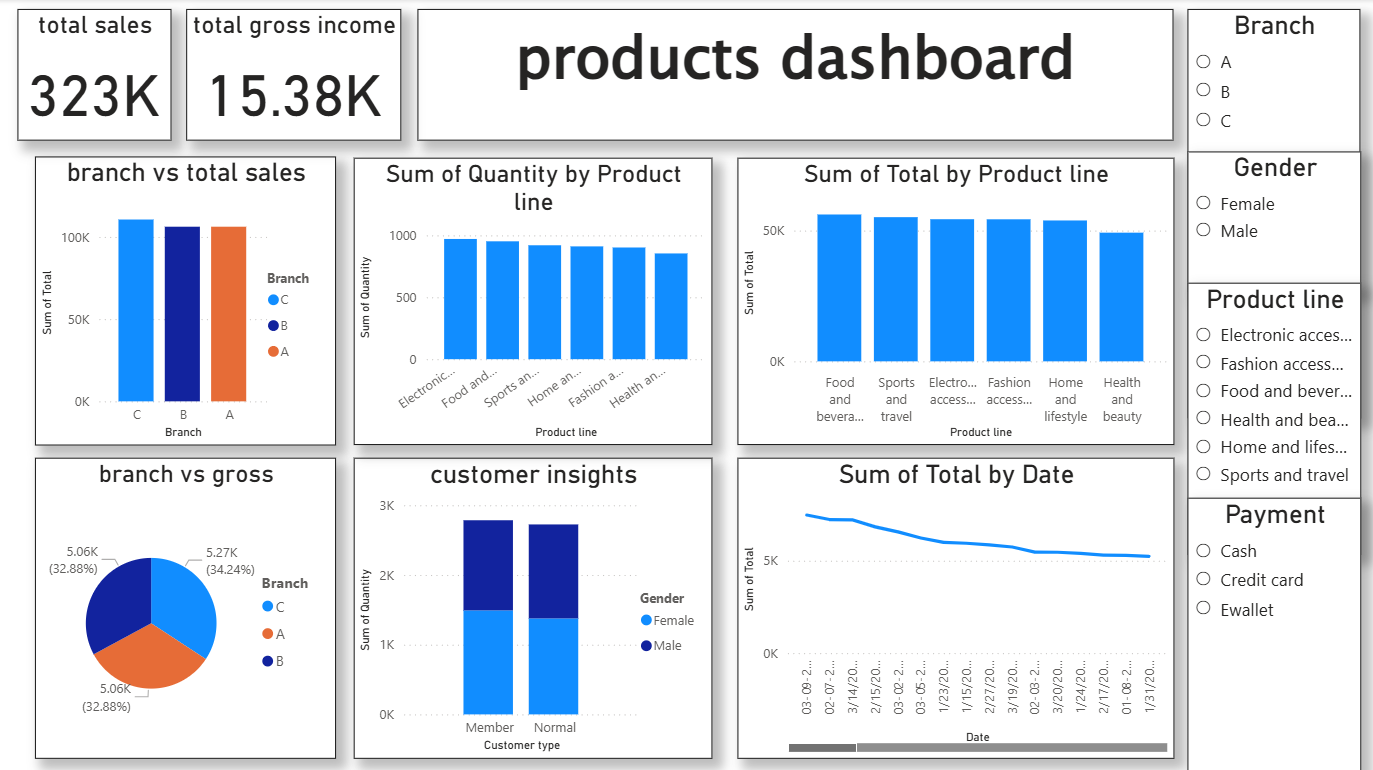

Layout of this report page (visuals, bound fields, positions):
{"tool":"powerbi","page":{"name":"Page 1","canvas":[1280,720],"ordinal":0},"visuals":[{"type":"columnChart","title":"branch vs total sales","fields":{"Category":["D6.Branch"],"Y":["Sum(D6.Total)"],"Series":["D6.Branch"]},"box":[32.9,146.8,279.9,269],"z":0},{"type":"pieChart","title":"branch vs gross","fields":{"Category":["D6.Branch"],"Y":["Sum(D6.gross income)"]},"box":[32.9,426.8,279.9,279.9],"z":1},{"type":"columnChart","title":"customer insights","fields":{"Category":["D6.Customer type"],"Series":["D6.Gender"],"Y":["Sum(D6.Quantity)"]},"box":[329.3,426.8,333.4,279.9],"z":2},{"type":"textbox","box":[388.3,9.6,703.9,109.8],"z":3},{"type":"card","title":"total sales","fields":{"Values":["Sum(D6.Total)"]},"box":[16.5,9.6,142.7,109.8],"z":4},{"type":"card","title":"total gross income","fields":{"Values":["Sum(D6.gross income)"]},"box":[172.9,9.6,200.3,109.8],"z":5},{"type":"clusteredColumnChart","fields":{"Category":["D6.Product line"],"Y":["Sum(D6.Total)"]},"box":[686.1,148.2,406.2,267.6],"z":6},{"type":"clusteredColumnChart","fields":{"Category":["D6.Product line"],"Y":["Sum(D6.Quantity)"]},"box":[329.3,148.2,333.4,267.6],"z":7},{"type":"lineChart","fields":{"Category":["D6.Date"],"Y":["Sum(D6.Total)"]},"box":[686.1,426.8,406.2,279.9],"z":8},{"type":"listSlicer","fields":{"Values":["D6.Branch"]},"box":[1104.6,9.6,160.5,263.5],"z":9},{"type":"listSlicer","fields":{"Values":["D6.Gender"]},"box":[1104.6,141.3,161.9,248.4],"z":10},{"type":"listSlicer","fields":{"Values":["D6.Product line"]},"box":[1104.6,263.5,161.9,252.5],"z":11},{"type":"listSlicer","fields":{"Values":["D6.Payment"]},"box":[1104.6,463.8,161.9,256.6],"z":12}]}

Visuals, with their boxes in screenshot pixels (x1, y1, x2, y2), scaled from the page's 1280x720 canvas onto the 1373x770 screenshot:
"branch vs total sales" columnChart: select_region(35, 157, 336, 445)
"branch vs gross" pieChart: select_region(35, 456, 336, 756)
"customer insights" columnChart: select_region(353, 456, 711, 756)
textbox: select_region(417, 10, 1172, 128)
"total sales" card: select_region(18, 10, 171, 128)
"total gross income" card: select_region(185, 10, 400, 128)
clusteredColumnChart - D6.Product line x Sum(D6.Total): select_region(736, 158, 1172, 445)
clusteredColumnChart - D6.Product line x Sum(D6.Quantity): select_region(353, 158, 711, 445)
lineChart - D6.Date x Sum(D6.Total): select_region(736, 456, 1172, 756)
listSlicer - D6.Branch: select_region(1185, 10, 1357, 292)
listSlicer - D6.Gender: select_region(1185, 151, 1359, 417)
listSlicer - D6.Product line: select_region(1185, 282, 1359, 552)
listSlicer - D6.Payment: select_region(1185, 496, 1359, 769)
